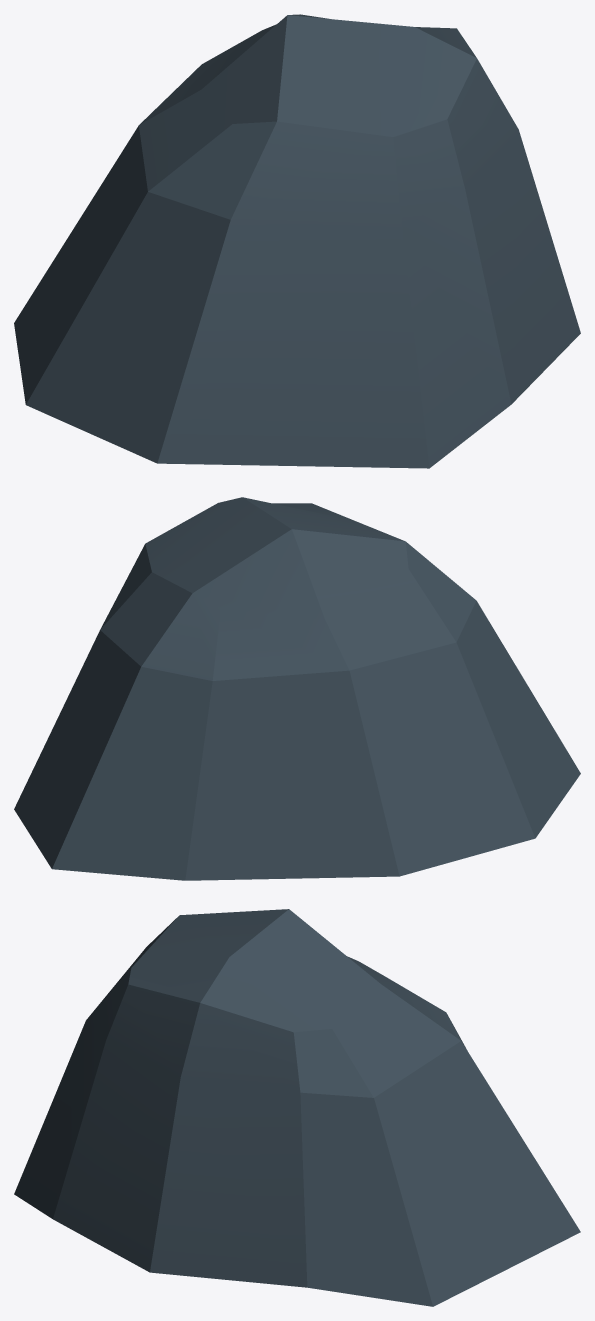
File: Roack01.fbx
3 views of the same model, one above another, from view 1: azimuth 30°, elevation 25°; view 2: azimuth 150°, elevation 25°; view 3: azimuth 270°, elevation 25° (orthographic). The views are drawn at different scales.
Parts seen in each view (by area): view 1: rock.004; view 2: rock.004; view 3: rock.004.
Part boxes in pixels (left/top/right/bottom): rock.004: left=14, top=14, right=580, bottom=468; rock.004: left=14, top=497, right=580, bottom=880; rock.004: left=14, top=909, right=580, bottom=1306.
Bounding box in the file's own units: 94.79 × 57.64 × 101.
